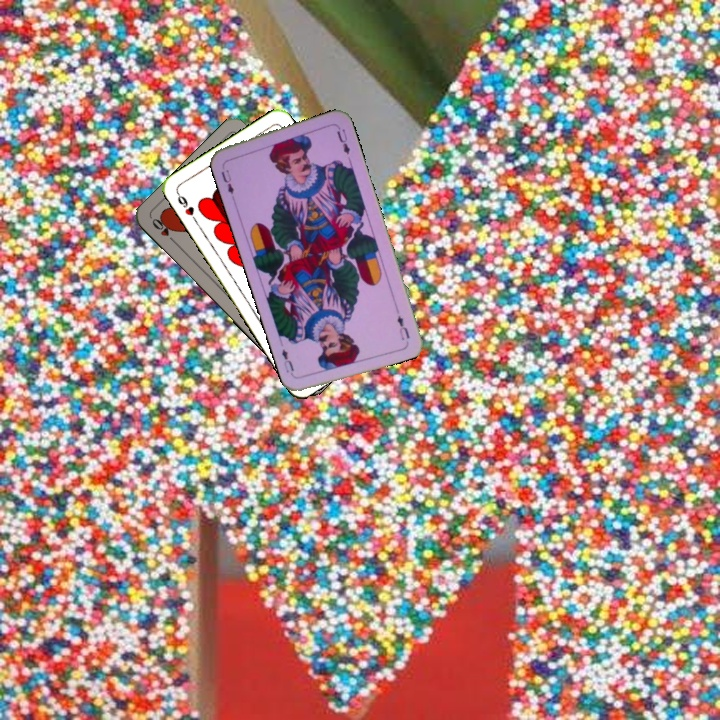EU: (217, 165, 237, 201), (393, 311, 412, 343)
H9: (173, 188, 199, 225)
HO: (148, 214, 180, 247)
